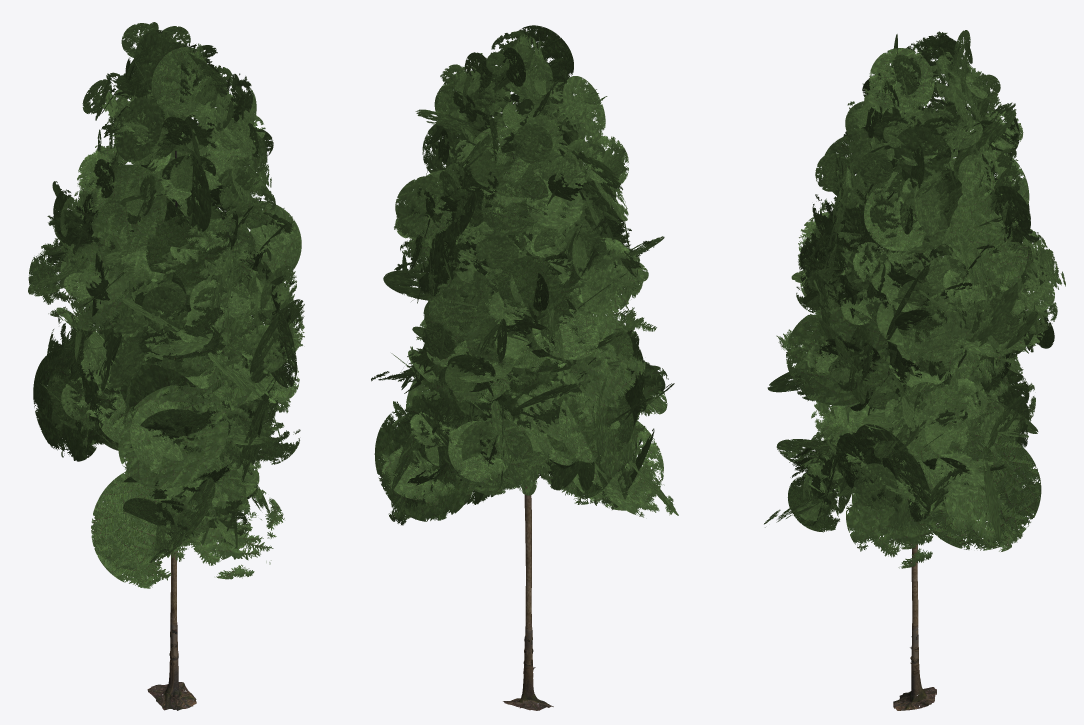
Rendered from las_jodla_a.glb.
3 renders of one model, left to right at view 1: azimuth 30°, elevation 25°; view 2: azimuth 150°, elevation 25°; view 3: azimuth 270°, elevation 25°, orthographic. The views are drawn at different scales.
Parts seen in each view (by area): view 1: liscie_2, liscie_1, liscie_0, pien; view 2: liscie_1, liscie_2, liscie_0, pien; view 3: liscie_2, liscie_1, liscie_0, pien.
Boxes of the visible parts, x1=… form: liscie_2: x1=28, y1=29, x2=304, y2=588; liscie_1: x1=28, y1=23, x2=302, y2=560; liscie_0: x1=46, y1=22, x2=304, y2=550; pien: x1=147, y1=151, x2=196, y2=710; liscie_1: x1=381, y1=31, x2=665, y2=504; liscie_2: x1=371, y1=25, x2=678, y2=525; liscie_0: x1=391, y1=44, x2=660, y2=509; pien: x1=503, y1=96, x2=553, y2=710; liscie_2: x1=764, y1=34, x2=1041, y2=568; liscie_1: x1=787, y1=30, x2=1065, y2=532; liscie_0: x1=794, y1=31, x2=1057, y2=542; pien: x1=893, y1=101, x2=936, y2=710.
Size of the model in its own units: 8.42 by 19.69 by 8.82.
2 materials, 2 textured.
